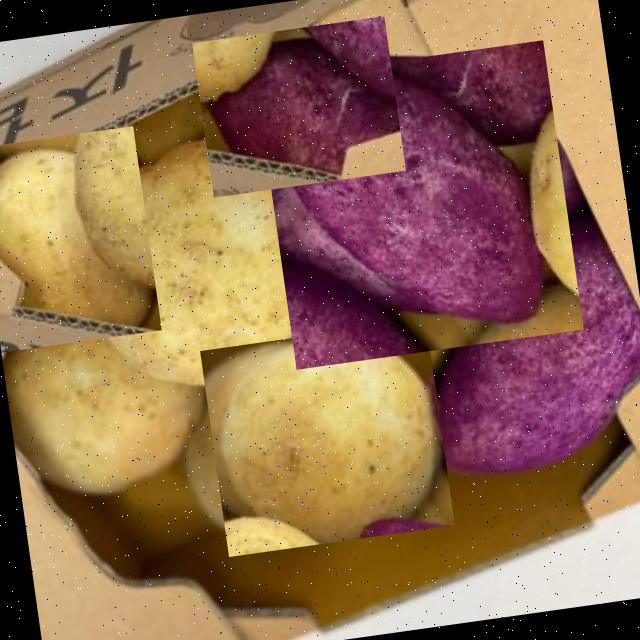Defected potato: (256, 40, 584, 370), (379, 230, 640, 499), (192, 16, 406, 198)
Potato: (67, 130, 330, 396), (200, 319, 455, 557), (1, 322, 223, 504), (0, 126, 162, 353)
